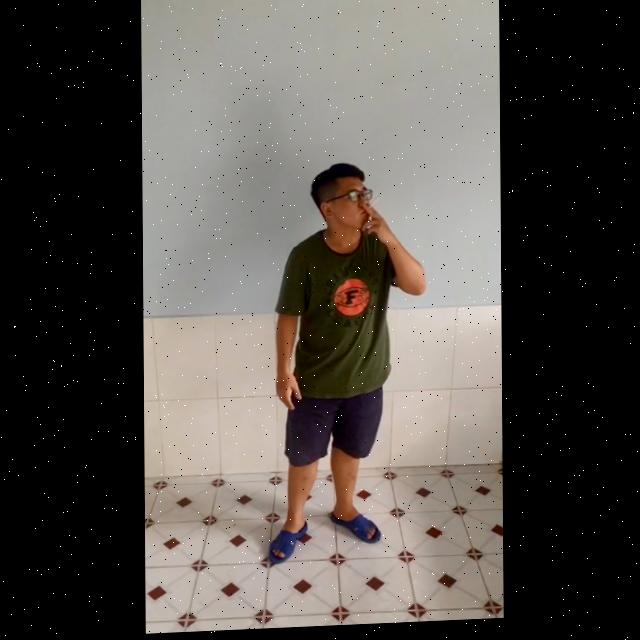cigarette: (368, 199, 380, 213)
